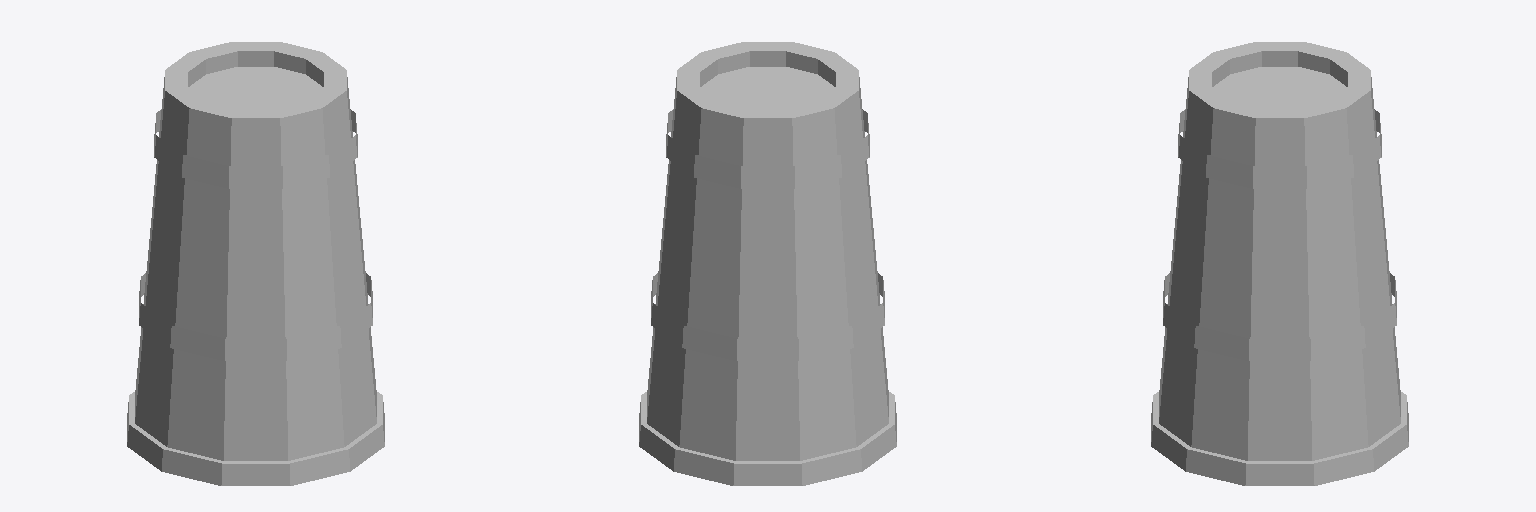
The model's file is butter_churn_lower.obj.
3 renders of one model, left to right at view 1: azimuth 30°, elevation 25°; view 2: azimuth 150°, elevation 25°; view 3: azimuth 270°, elevation 25°, orthographic.
Visible parts, largest first — view 1: cylinder, lower_ring, middle_ring, upper_ring; view 2: cylinder, lower_ring, middle_ring, upper_ring; view 3: cylinder, lower_ring, middle_ring, upper_ring.
Boxes of the visible parts, x1=… form: cylinder: x1=135, y1=42, x2=376, y2=460; lower_ring: x1=127, y1=392, x2=384, y2=485; middle_ring: x1=139, y1=273, x2=372, y2=360; upper_ring: x1=154, y1=109, x2=357, y2=188; cylinder: x1=647, y1=42, x2=888, y2=460; lower_ring: x1=639, y1=392, x2=896, y2=485; middle_ring: x1=651, y1=273, x2=884, y2=360; upper_ring: x1=666, y1=109, x2=869, y2=188; cylinder: x1=1159, y1=42, x2=1400, y2=460; lower_ring: x1=1151, y1=392, x2=1408, y2=485; middle_ring: x1=1163, y1=273, x2=1396, y2=360; upper_ring: x1=1178, y1=109, x2=1381, y2=188.
Bounding box in the file's own units: 0.6634 × 0.999 × 0.6634.